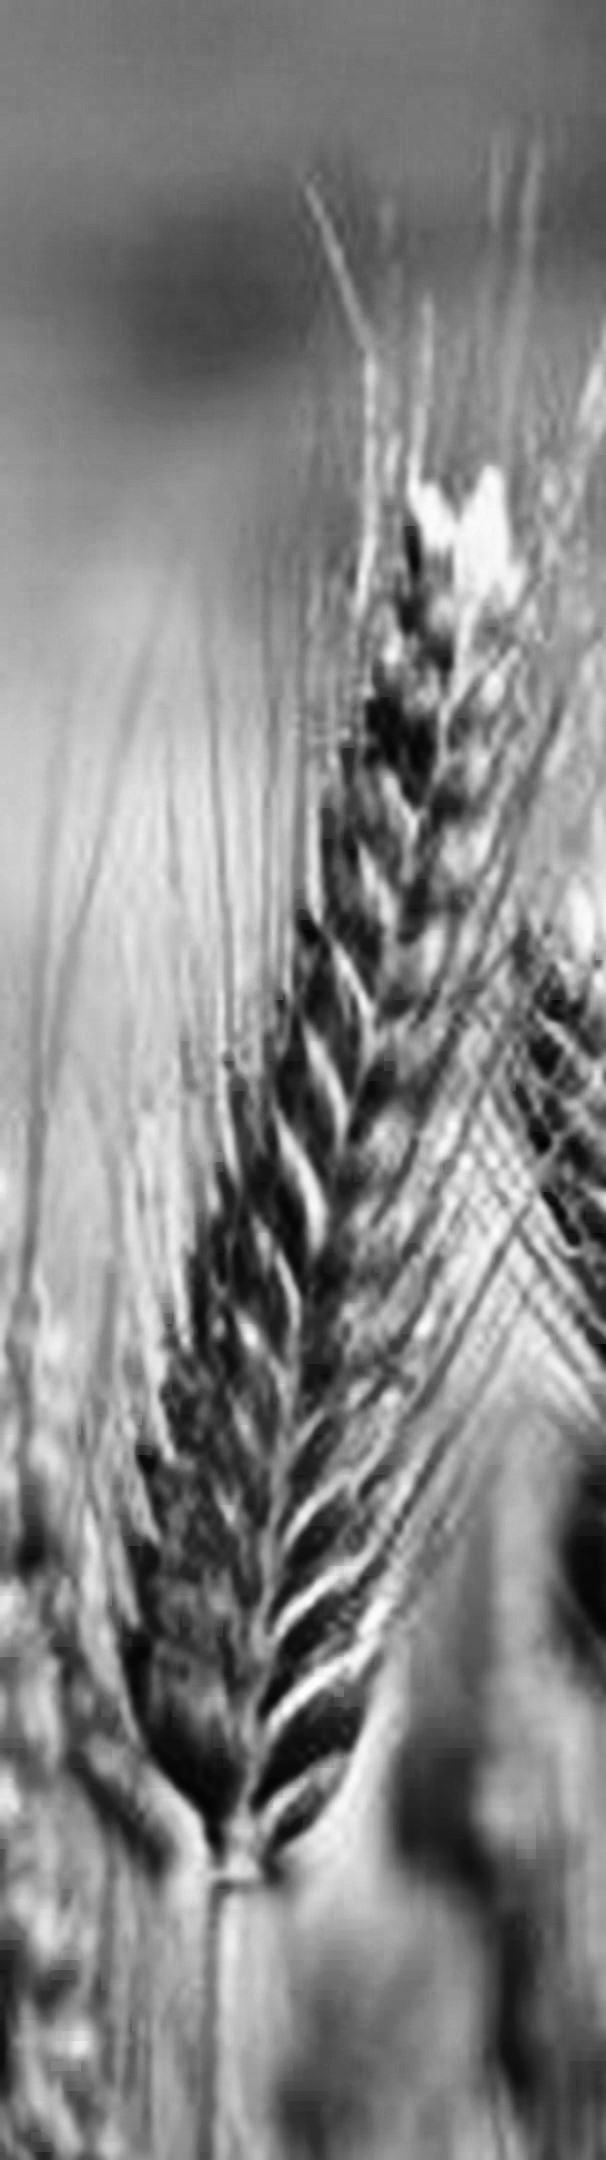Healthy Wheat: (120, 459, 580, 1887)
